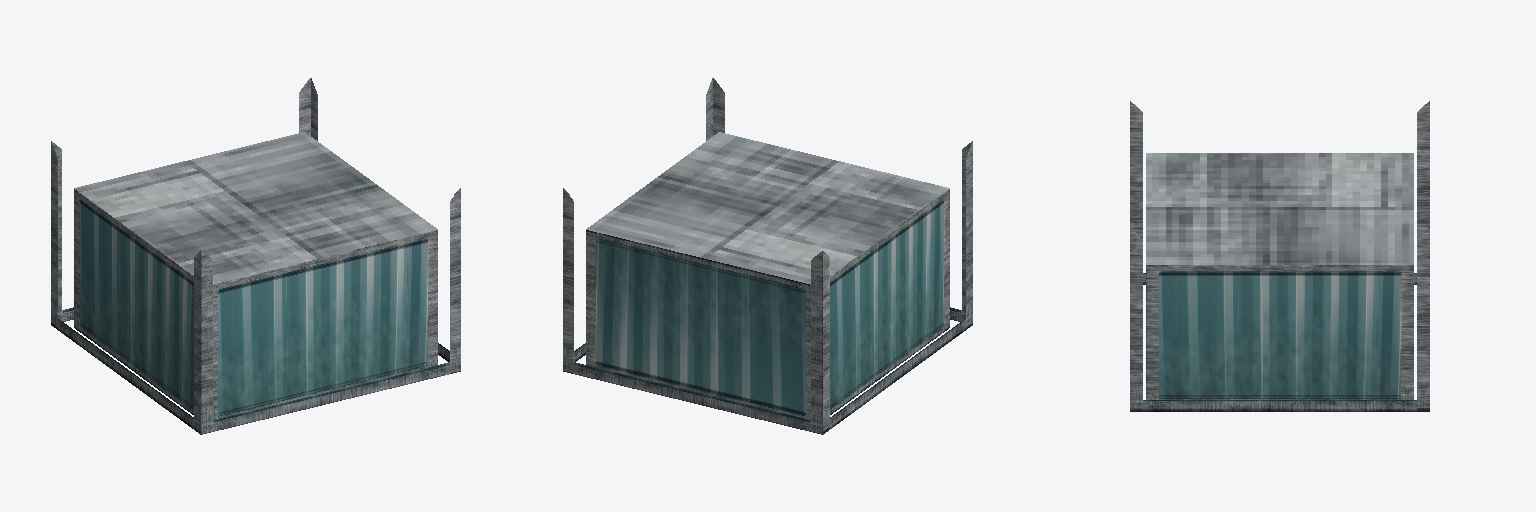
The picture shows the model from 3 angles: view 1: azimuth 30°, elevation 25°; view 2: azimuth 150°, elevation 25°; view 3: azimuth 270°, elevation 25°; orthographic projection.
Parts seen in each view (by area): view 1: waterTank_3; view 2: waterTank_3; view 3: waterTank_3.
Boxes of the visible parts, <box> form: waterTank_3: <box>51,78,460,434</box>; waterTank_3: <box>563,78,972,434</box>; waterTank_3: <box>1130,101,1429,411</box>.
Size of the model in its own units: 2.25 by 1.52 by 2.25.
1 materials, 1 textured.